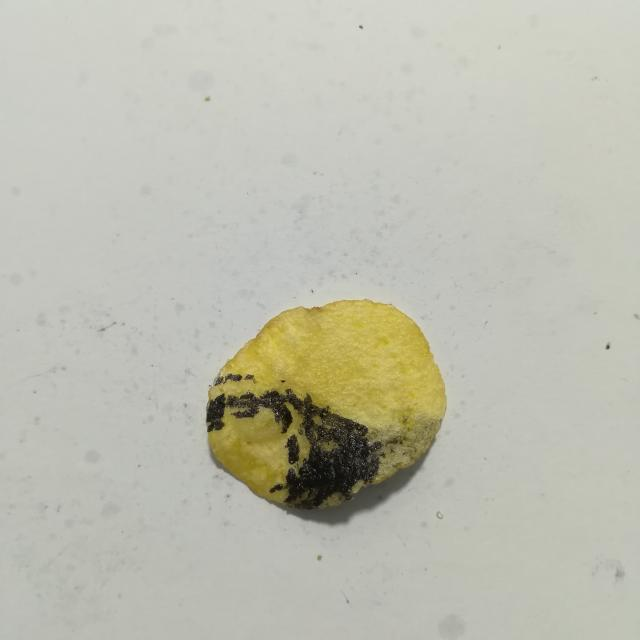chip: (206, 300, 446, 509)
damaged: (206, 390, 381, 509), (223, 373, 243, 384), (244, 374, 257, 385), (214, 376, 224, 386), (281, 380, 286, 383)
semi-damaged: (353, 413, 442, 493)
